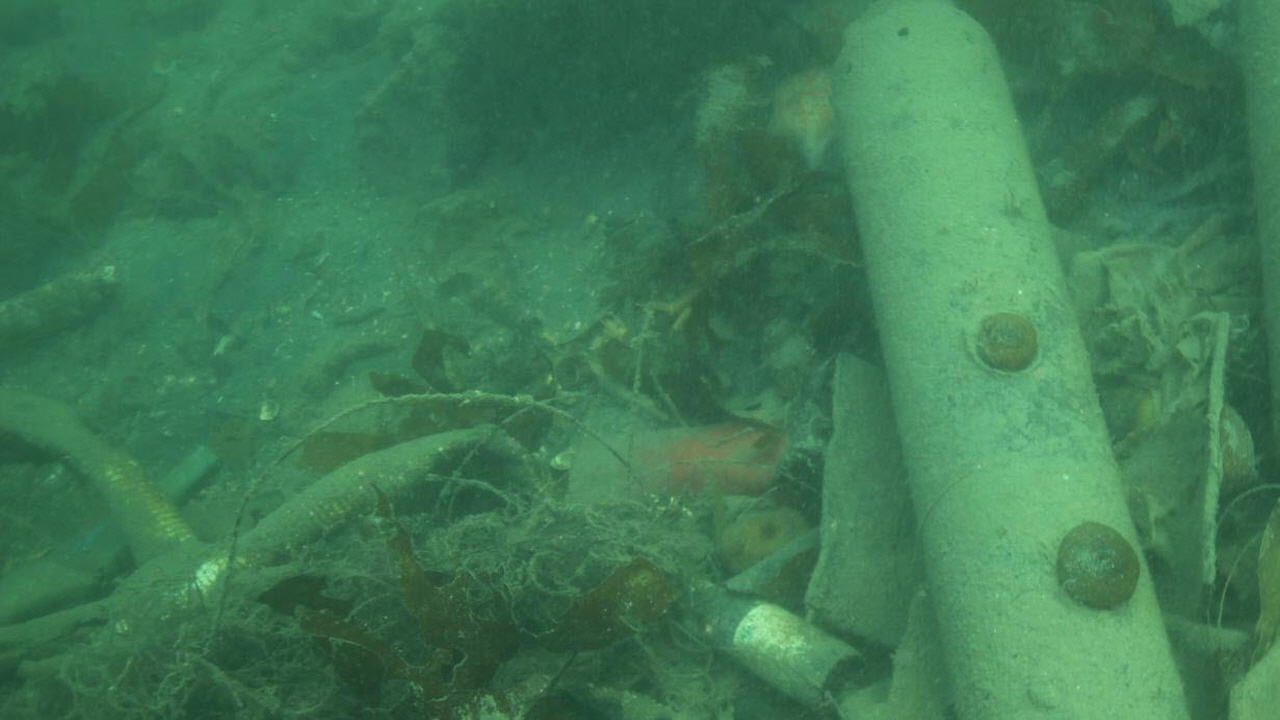eel fish trap: (828, 0, 1194, 720)
